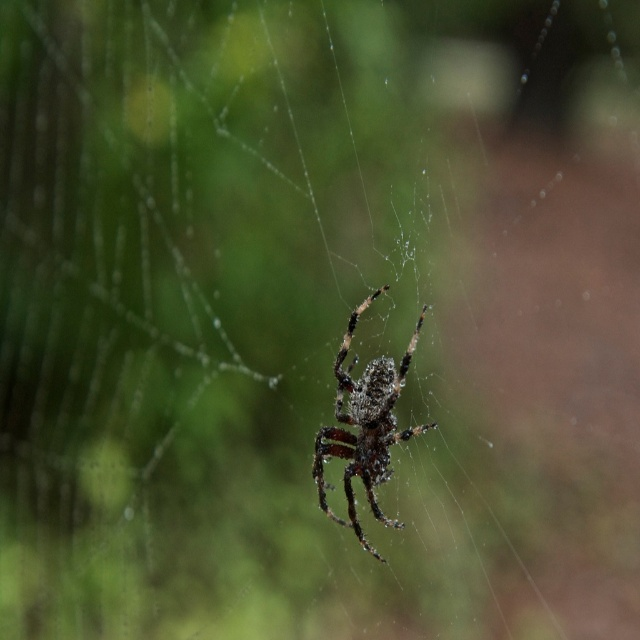Spider: (313, 285, 438, 565)
